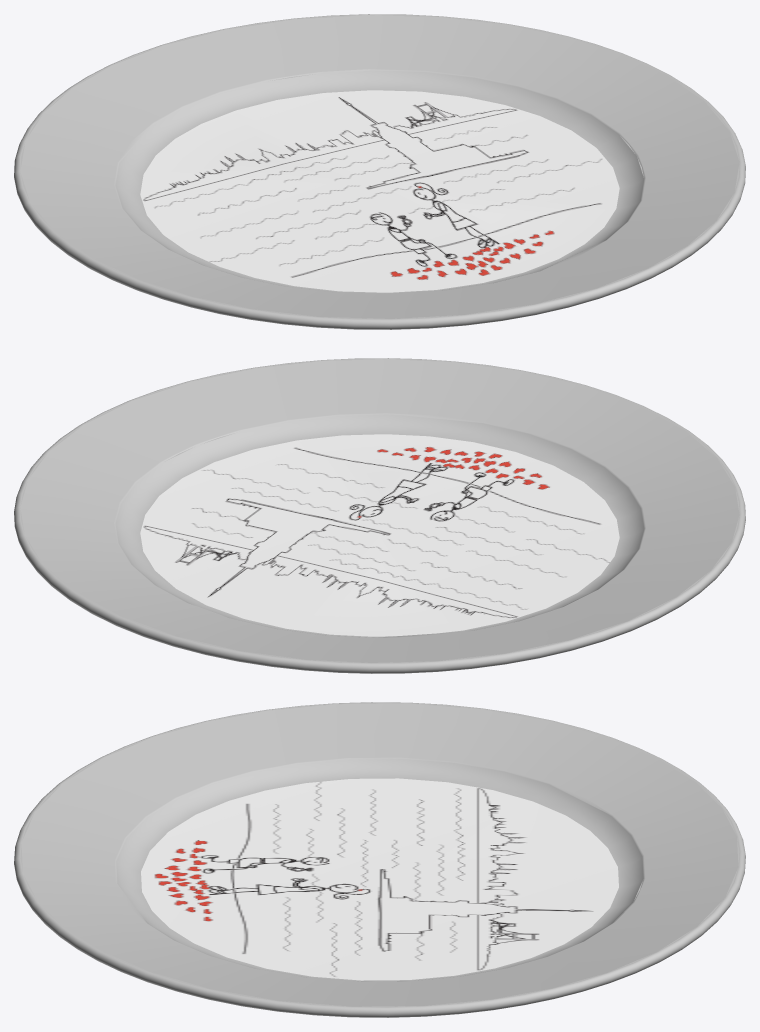
3 views of the same model, one above another, from view 1: azimuth 30°, elevation 25°; view 2: azimuth 150°, elevation 25°; view 3: azimuth 270°, elevation 25° (orthographic).
Visible parts, largest first — view 1: DirectConnectNode_2-DC_Shell; view 2: DirectConnectNode_2-DC_Shell; view 3: DirectConnectNode_2-DC_Shell.
Part boxes in pixels (x1,y1,x2,y2): DirectConnectNode_2-DC_Shell: (14, 14, 745, 329); DirectConnectNode_2-DC_Shell: (14, 358, 745, 673); DirectConnectNode_2-DC_Shell: (14, 702, 745, 1017).
Size of the model in its own units: 26.82 by 2.34 by 26.82.
2 materials, 1 textured.
